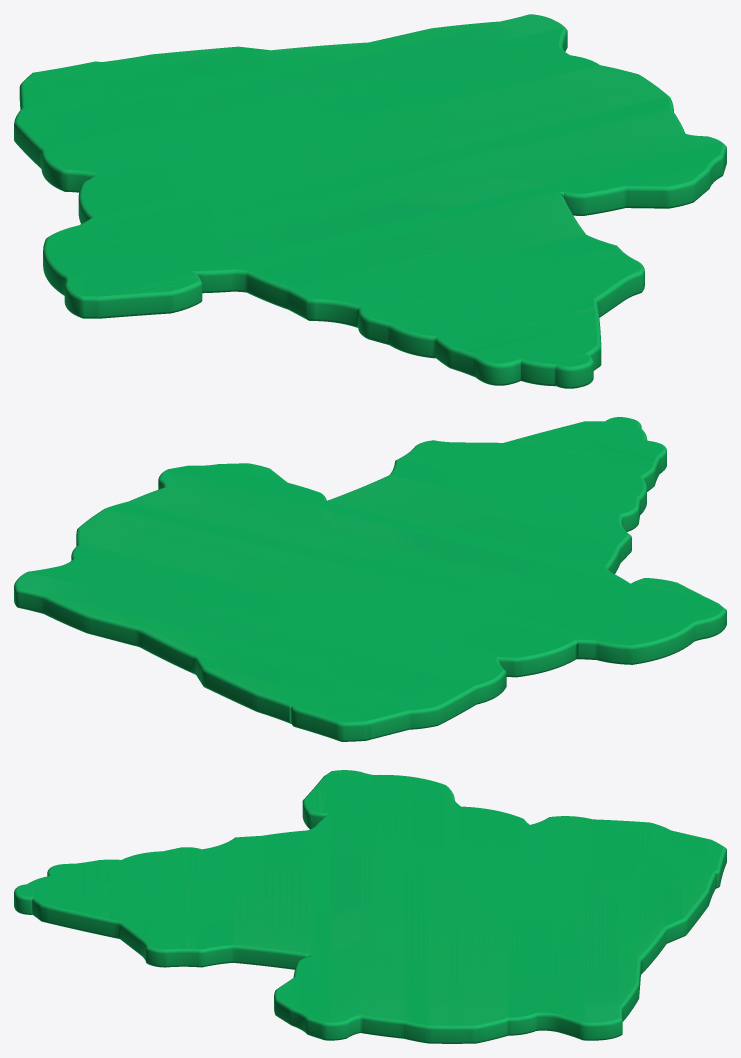
File: chequilla.glb
3 views of the same model, one above another, from view 1: azimuth 30°, elevation 25°; view 2: azimuth 150°, elevation 25°; view 3: azimuth 270°, elevation 25° (orthographic). The views are drawn at different scales.
Visible parts, largest first — view 1: node_id5; view 2: node_id5; view 3: node_id5.
Boxes of the visible parts, left/top/right/bottom form: node_id5: left=14, top=14, right=726, bottom=388; node_id5: left=14, top=417, right=726, bottom=741; node_id5: left=14, top=770, right=726, bottom=1043.
Bounding box in the file's own units: 0.512 × 0.0164 × 0.5974.
Materials: 1 (1 with a texture image).
